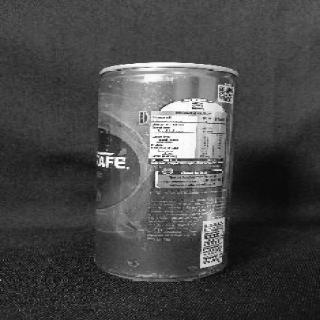alumunium_can: (94, 62, 238, 282)
